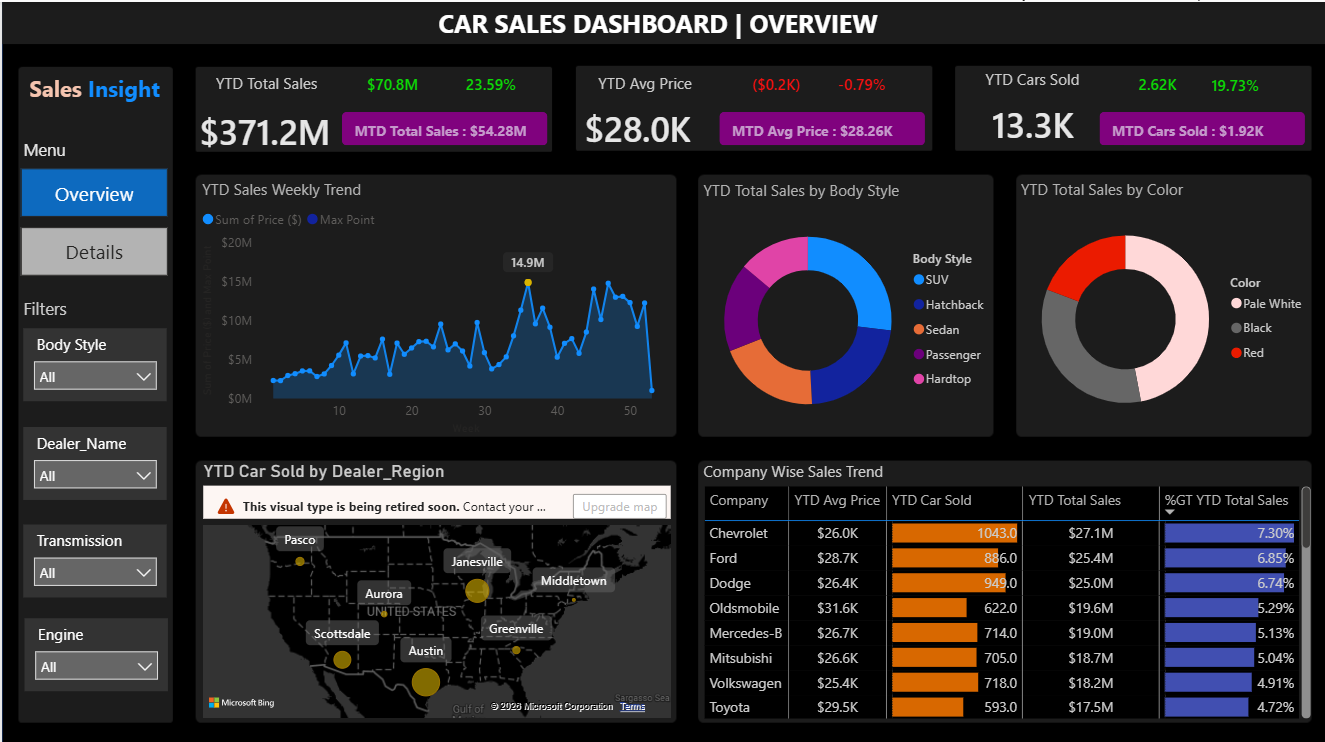

The dashboard page shown, as its layout file describes it:
{"tool":"powerbi","page":{"name":"Overview","canvas":[1280,720],"ordinal":0},"visuals":[{"type":"cardVisual","title":"YTD Total Sales","fields":{"Data":["car_data.YTD Total Sales"]},"box":[161.2,67.5,187.5,90],"z":0},{"type":"cardVisual","fields":{"Data":["car_data.Sales Difference"]},"box":[323.8,50,113.8,56.2],"z":1000},{"type":"cardVisual","fields":{"Data":["car_data.YoY Sales Growth"]},"box":[418.8,50,113.8,56.2],"z":2000},{"type":"cardVisual","fields":{"Data":["car_data.MTD KPI"]},"box":[323.8,101,208.8,42.5],"z":3000},{"type":"cardVisual","title":"YTD Avg Price","fields":{"Data":["car_data.YTD Avg Price"]},"box":[532.9,67.1,175,85],"z":4000},{"type":"cardVisual","fields":{"Data":["car_data.Avg Price Diff"]},"box":[675,50,146.2,56.2],"z":5000},{"type":"cardVisual","fields":{"Data":["car_data.YoY Avg Price Growth"]},"box":[777.5,50,106.2,56.2],"z":6000},{"type":"cardVisual","fields":{"Data":["car_data.MTD Avg Price KPI"]},"box":[687.5,101,208.8,42.5],"z":7000},{"type":"cardVisual","title":"YTD Cars Sold","fields":{"Data":["car_data.YTD Car Sold"]},"box":[907.5,63.8,175,85],"z":8000},{"type":"cardVisual","fields":{"Data":["car_data.Cars sold Diff"]},"box":[1042.5,50,146.2,56.2],"z":9000},{"type":"cardVisual","fields":{"Data":["car_data.YoY Car Sold Growth"]},"box":[1100,51.2,180,56.2],"z":10000},{"type":"cardVisual","fields":{"Data":["car_data.MTD Cars Sold KPI"]},"box":[1055,101.2,208.8,42.5],"z":11000},{"type":"areaChart","title":"YTD Sales Weekly Trend","fields":{"Category":["Calendar Table.Week"],"Y":["Sum(car_data.Price ($))","car_data.Max Point"]},"box":[188.8,170,461.2,252.5],"z":12000},{"type":"donutChart","fields":{"Category":["car_data.Body Style"],"Y":["car_data.YTD Total Sales"]},"box":[672.5,171.2,290,252.5],"z":13000},{"type":"donutChart","fields":{"Y":["car_data.YTD Total Sales"],"Category":["car_data.Color"]},"box":[978.8,170,290,252.5],"z":14000},{"type":"map","fields":{"Category":["car_data.Dealer_Region"],"Size":["car_data.YTD Car Sold"]},"box":[188.9,442.2,461.1,253.3],"z":15000},{"type":"tableEx","title":"Company Wise Sales Trend","fields":{"Values":["car_data.Company","car_data.YTD Avg Price","car_data.YTD Car Sold","car_data.YTD Total Sales","Divide(car_data.YTD Total Sales, ScopedEval(car_data.YTD Total Sales, []))"]},"box":[672.5,442.5,596.2,253.8],"z":16000},{"type":"textbox","box":[416.2,0,555,50],"z":17000},{"type":"slicer","fields":{"Values":["car_data.Body Style"]},"box":[20,315,138.8,70],"z":18000},{"type":"slicer","fields":{"Values":["car_data.Dealer_Name"]},"box":[20,410,138.8,70],"z":19000},{"type":"slicer","fields":{"Values":["car_data.Transmission"]},"box":[20,503.8,138.8,70],"z":20000},{"type":"slicer","fields":{"Values":["car_data.Engine"]},"box":[21.2,595,138.8,70],"z":21000},{"type":"textbox","box":[16.2,280,150,32.5],"z":22000},{"type":"textbox","box":[14.3,64.3,150,55.7],"z":23000},{"type":"textbox","box":[15.7,127.1,128.6,32.9],"z":24000},{"type":"pageNavigator","box":[18.6,160,142.9,105.7],"z":25000}]}

Visuals, with their boxes in screenshot pixels (x1, y1, x2, y2), scaled from the page's 1280x720 canvas onto the 1325x742 screenshot:
"YTD Total Sales" cardVisual: x1=167 y1=70 x2=361 y2=162
cardVisual - car_data.Sales Difference: x1=335 y1=52 x2=453 y2=109
cardVisual - car_data.YoY Sales Growth: x1=434 y1=52 x2=551 y2=109
cardVisual - car_data.MTD KPI: x1=335 y1=104 x2=551 y2=148
"YTD Avg Price" cardVisual: x1=552 y1=69 x2=733 y2=157
cardVisual - car_data.Avg Price Diff: x1=699 y1=52 x2=850 y2=109
cardVisual - car_data.YoY Avg Price Growth: x1=805 y1=52 x2=915 y2=109
cardVisual - car_data.MTD Avg Price KPI: x1=712 y1=104 x2=928 y2=148
"YTD Cars Sold" cardVisual: x1=939 y1=66 x2=1121 y2=153
cardVisual - car_data.Cars sold Diff: x1=1079 y1=52 x2=1230 y2=109
cardVisual - car_data.YoY Car Sold Growth: x1=1139 y1=53 x2=1324 y2=111
cardVisual - car_data.MTD Cars Sold KPI: x1=1092 y1=104 x2=1308 y2=148
"YTD Sales Weekly Trend" areaChart: x1=195 y1=175 x2=673 y2=435
donutChart - car_data.Body Style x car_data.YTD Total Sales: x1=696 y1=176 x2=996 y2=437
donutChart - car_data.YTD Total Sales x car_data.Color: x1=1013 y1=175 x2=1313 y2=435
map - car_data.Dealer_Region x car_data.YTD Car Sold: x1=196 y1=456 x2=673 y2=717
"Company Wise Sales Trend" tableEx: x1=696 y1=456 x2=1313 y2=718
textbox: x1=431 y1=0 x2=1005 y2=52
slicer - car_data.Body Style: x1=21 y1=325 x2=164 y2=397
slicer - car_data.Dealer_Name: x1=21 y1=423 x2=164 y2=495
slicer - car_data.Transmission: x1=21 y1=519 x2=164 y2=591
slicer - car_data.Engine: x1=22 y1=613 x2=166 y2=685
textbox: x1=17 y1=289 x2=172 y2=322
textbox: x1=15 y1=66 x2=170 y2=124
textbox: x1=16 y1=131 x2=149 y2=165
pageNavigator: x1=19 y1=165 x2=167 y2=274
